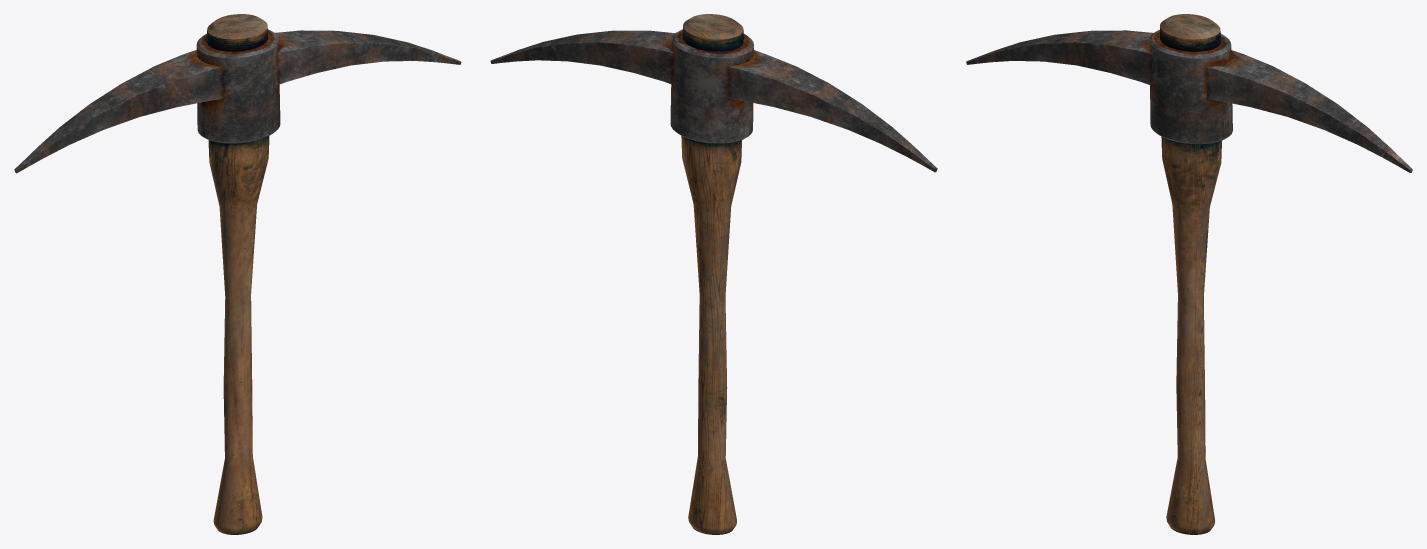
File: morph2.glb
3 views of the same model, side by side, from view 1: azimuth 30°, elevation 25°; view 2: azimuth 150°, elevation 25°; view 3: azimuth 330°, elevation 25° (orthographic).
Visible parts, largest first — view 1: Cylinder.001_0; view 2: Cylinder.001_0; view 3: Cylinder.001_0.
Part boxes in pixels (box(x1,y1,x2,y2)): Cylinder.001_0: box(14, 14, 461, 534); Cylinder.001_0: box(490, 14, 937, 534); Cylinder.001_0: box(966, 14, 1412, 534).
Size of the model in its own units: 4.74 by 5.11 by 0.6476.
Materials: 2 (2 with a texture image).
